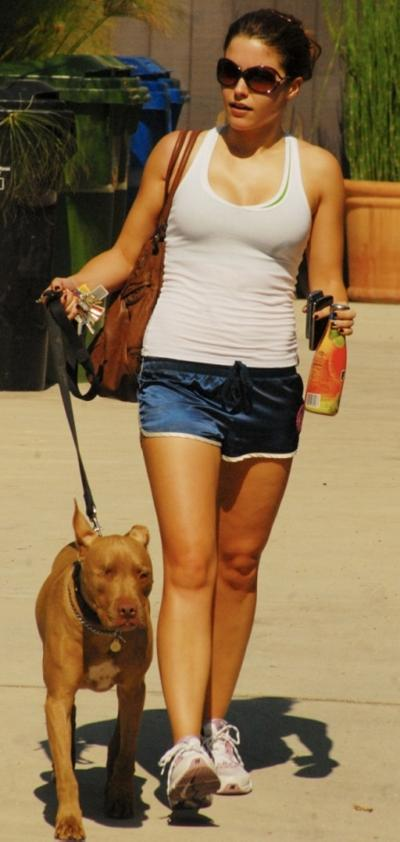person: (39, 12, 355, 806)
